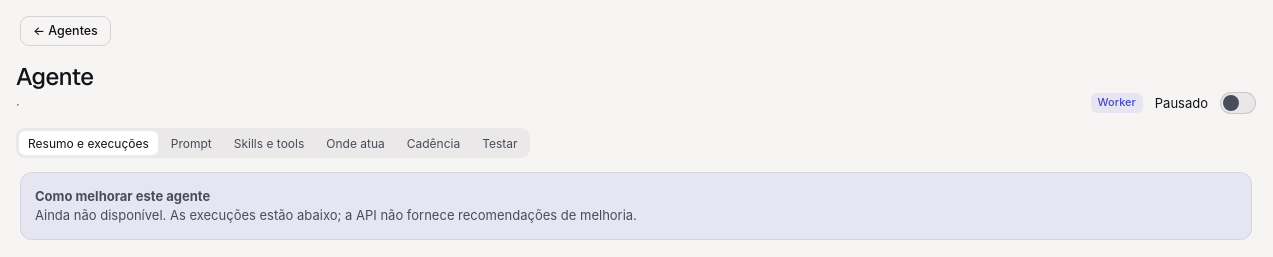
mantém o vazio sem pipelineScope e aponta para Onde atua
This screenshot has width=1273, height=257.
Step 1. Click the button "Cadência" → (434, 143), box [397,130,470,156]
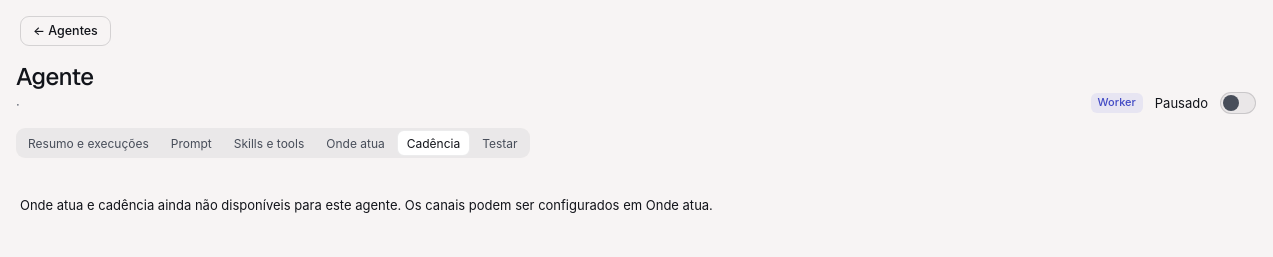
Expected: the button "Onde atua" is shown, [316,130,395,156]
Expected: the text "Os canais podem ser configurados em Onde atua" is shown, [20,197,713,213]
